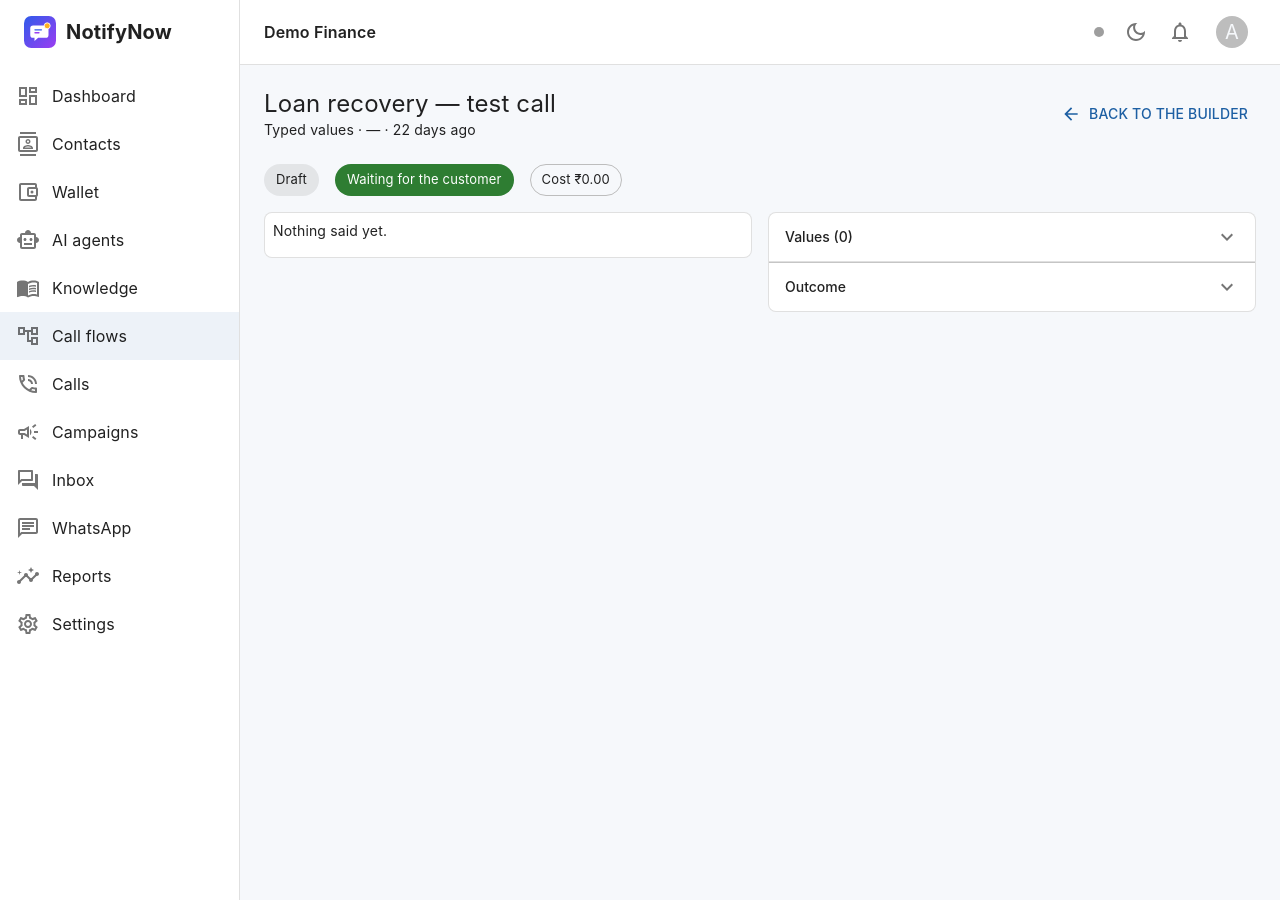
it: FlowSimulationPage › empty run: no values, no outcome, no transcript
Expected: the text "Nothing said yet." is shown, top-left (273, 222), bottom-right (387, 239)
Expected: the text "Typed values" is shown, top-left (264, 121), bottom-right (354, 138)
What coordinates should you click on to do the following:
click the button "Values (0)"
I would click on:
 (819, 237)
Its box is top-left (769, 213), bottom-right (1255, 261).
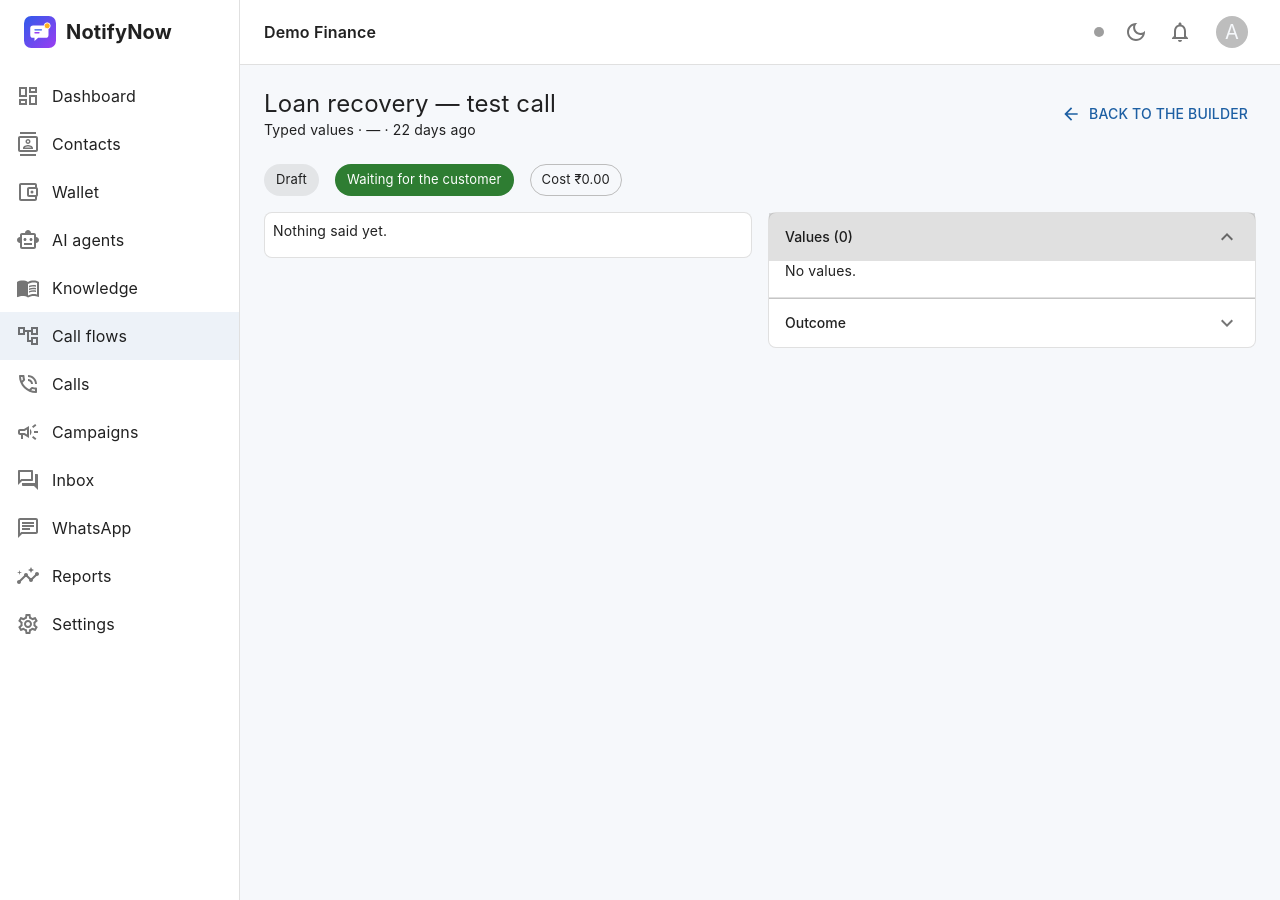
Result: the text "No values." is shown at top-left (785, 262), bottom-right (856, 279)
What coordinates should you click on to do the following:
click the button "Outcome"
I would click on:
 (815, 323)
Its box is top-left (769, 299), bottom-right (1255, 347).
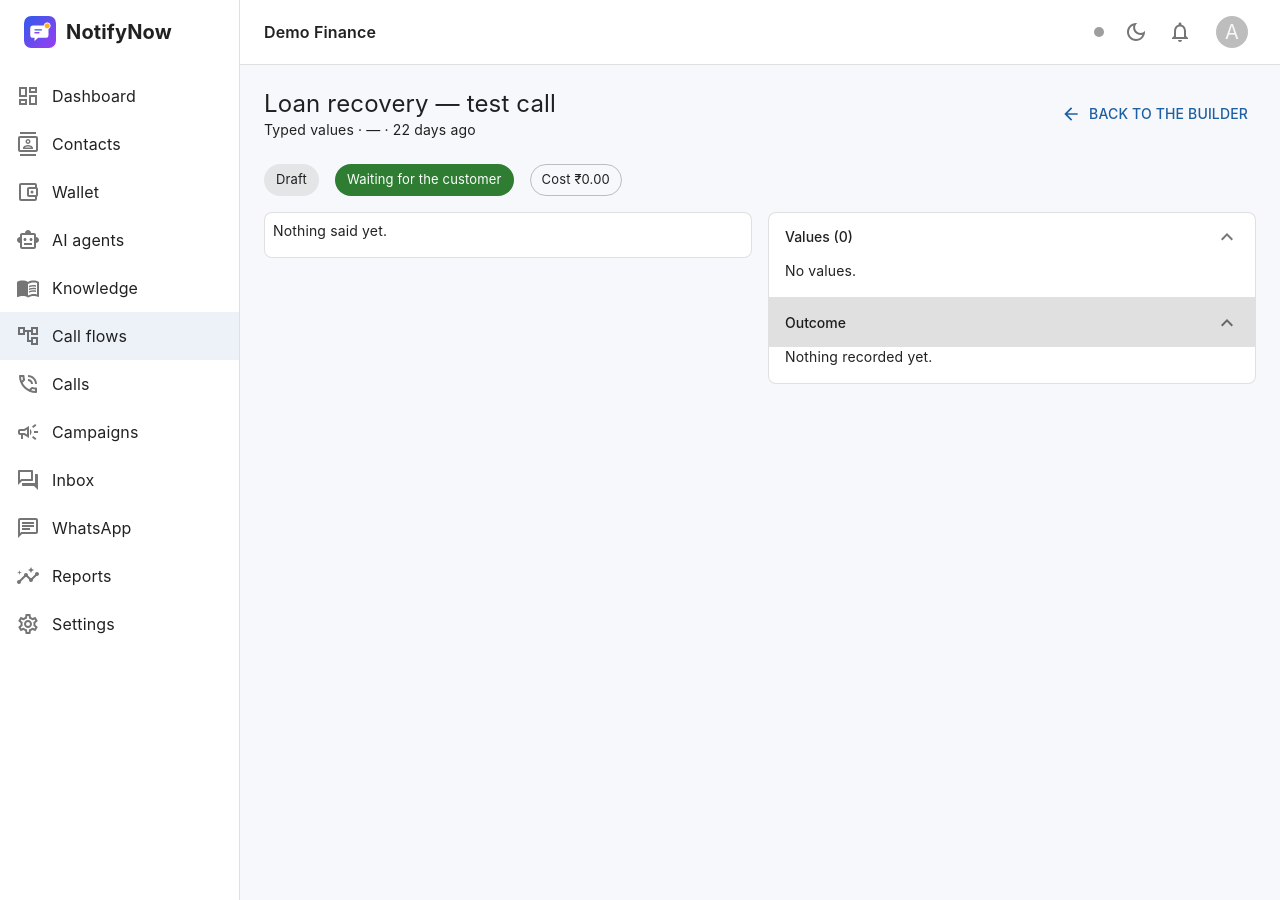
Result: the text "Nothing recorded yet." is shown at top-left (785, 348), bottom-right (932, 365)
